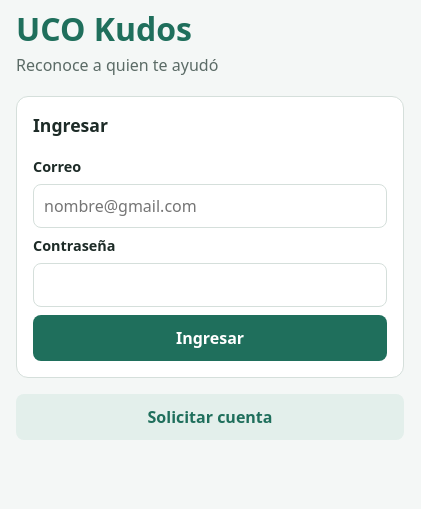
it: Ingreso › muestra el mensaje de que no hay cuenta
Type "nadie.nadie0000@uco.net.co" into the field labelled "Correo" at [210, 206], box x1=33 y1=184 x2=387 y2=228
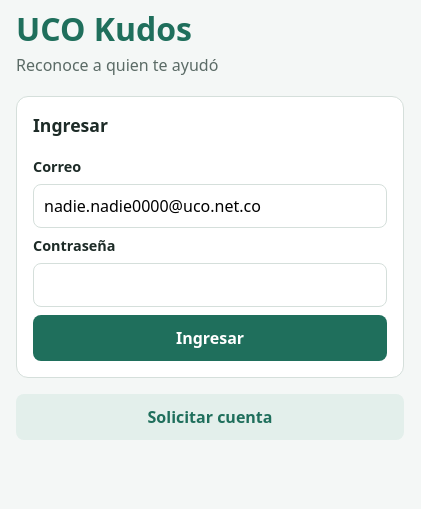
Type "x" into the password field labelled "Contraseña" at [210, 285], box x1=33 y1=263 x2=387 y2=307
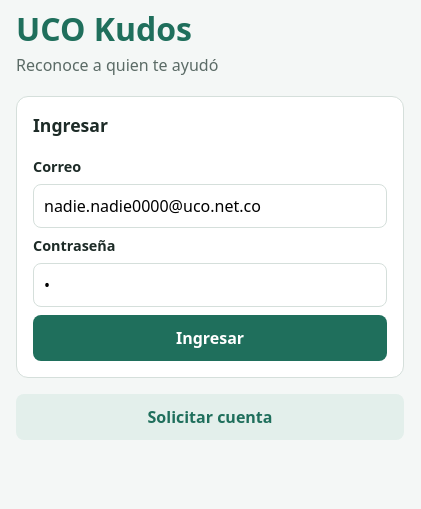
Click the button "Ingresar" at [210, 338], box x1=33 y1=315 x2=387 y2=361
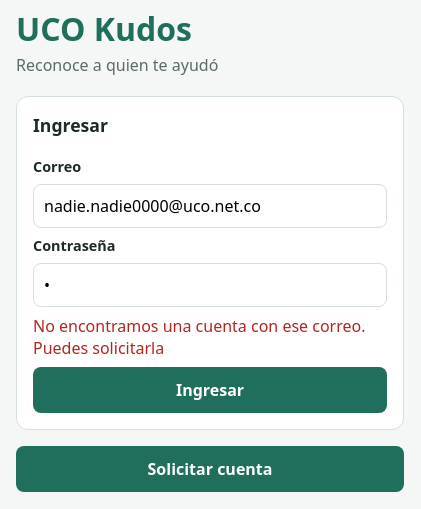
Now the text "No encontramos una cuenta con ese correo. Puedes solicitarla" is shown, box x1=33 y1=315 x2=387 y2=359
